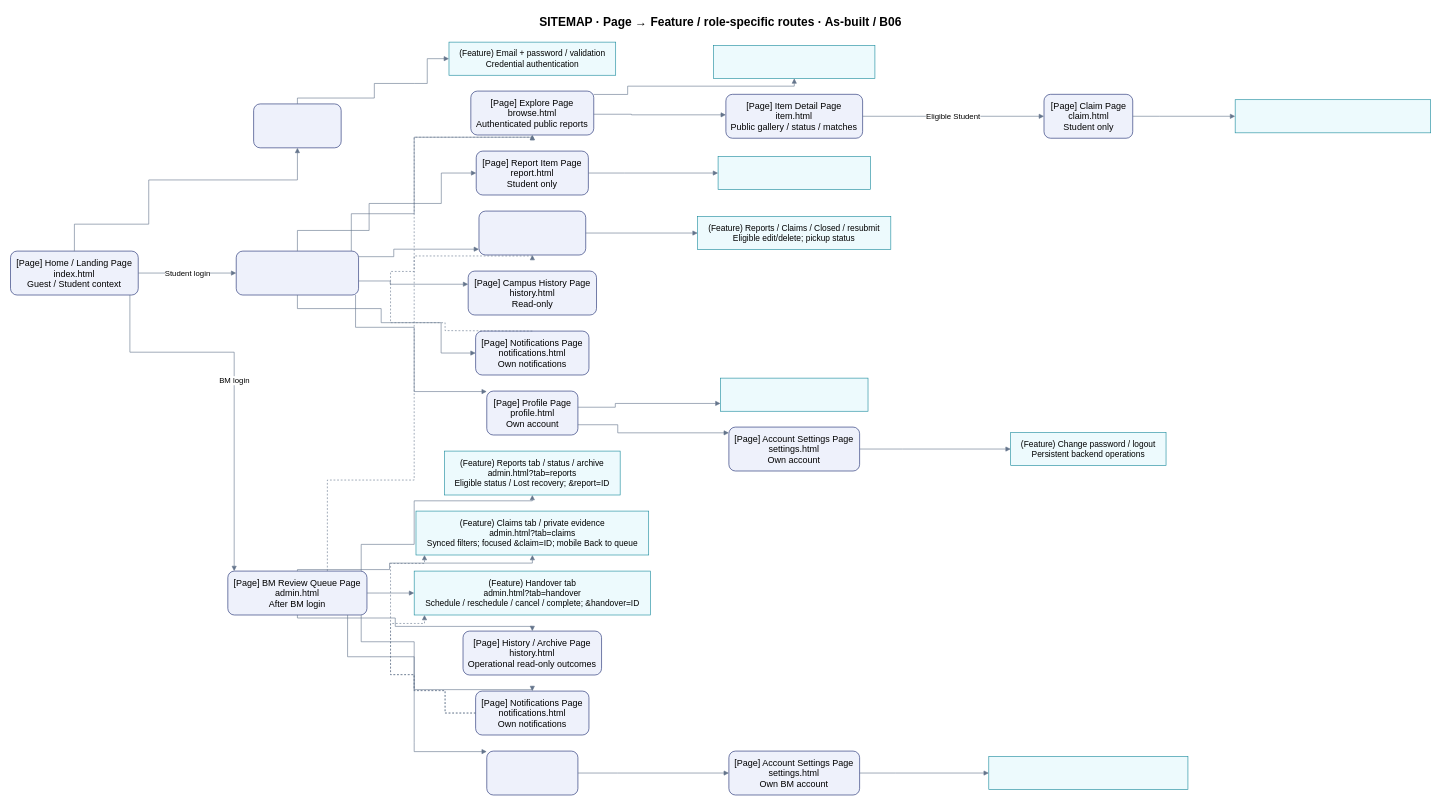
This 1441x805 diagram has some shape labels left out. Here are the shapes that lost their labels. From the top down, the centre of each, then its label:
At [794,61]: "(Feature) Search / type / filters / cards Discoverable controls".
At [297,125]: "[Page] Login Page login.html Guest".
At [1333,116]: "(Feature) Answer / own Lost link / private proof Explicit submit / resubmit".
At [793,173]: "(Feature) Lost / Found / eligible edit Public media vs private clue/proof".
At [532,232]: "[Page] My Activity Page my-reports.html Own records".
At [297,272]: "[Page] Student Home Page index.html After Student login".
At [794,394]: "(Feature) View / edit display name Email/NIM/role readonly".
At [532,772]: "[Page] Profile Page profile.html Own BM account".
At [1088,773]: "(Feature) Edit name / change password / logout Shared account capability".
